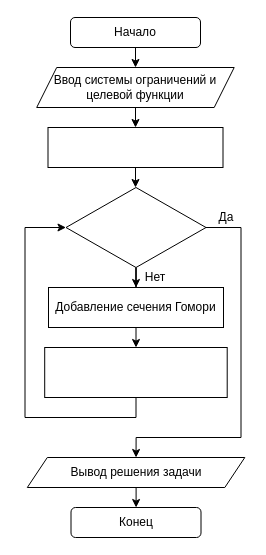
The diagram is 266 pixels wide and 555 high, and some of its shapes have lost their labels. The centre of each missing label's shape, as x and y in pixels:
"Решение задачи методом искусственного базиса" belongs at [135,147].
"Решение задачи методом последовательного уточнения оценок" belongs at [135,372].
"Решение целочисленно?" belongs at [135,227].
